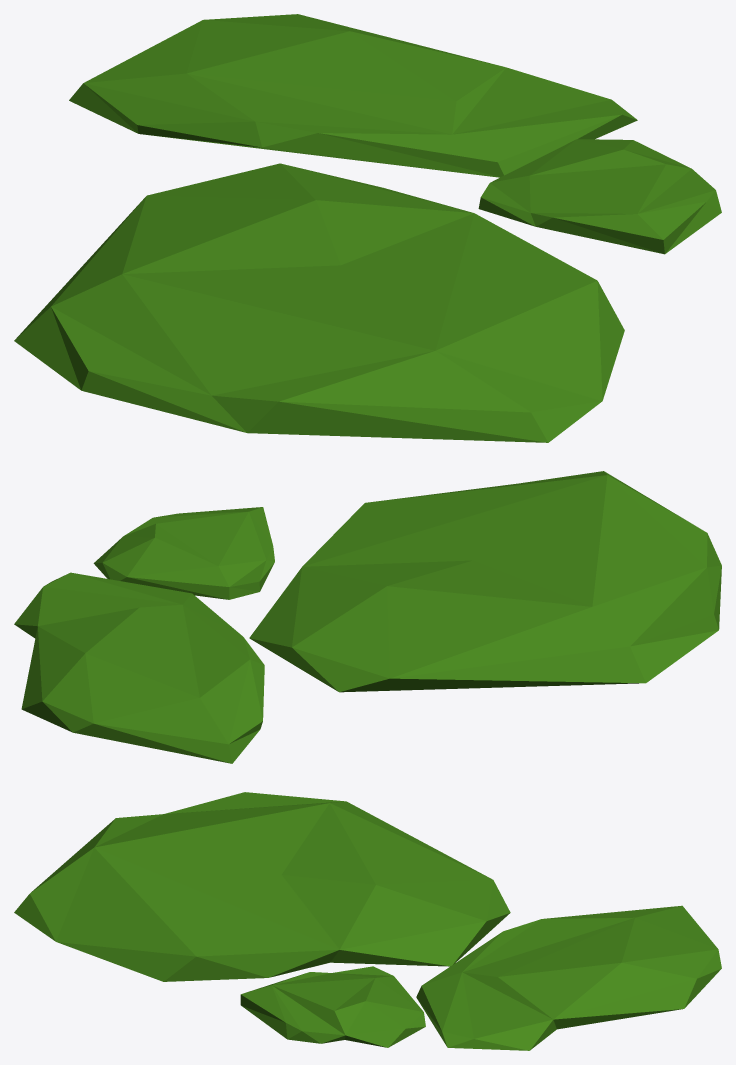
Rendered from Grass_02.FBX.
The picture shows the model from 3 angles, top to bottom: view 1: azimuth 30°, elevation 25°; view 2: azimuth 150°, elevation 25°; view 3: azimuth 270°, elevation 25°; orthographic projection. The views are drawn at different scales.
Parts seen in each view (by area): view 1: GrassDuneSmall_004, GrassDuneSmall_005, GrassDuneSmall_003; view 2: GrassDuneSmall_004, GrassDuneSmall_005, GrassDuneSmall_003; view 3: GrassDuneSmall_004, GrassDuneSmall_005, GrassDuneSmall_003.
Part boxes in pixels (x1=…): GrassDuneSmall_004: x1=14, y1=163, x2=624, y2=442; GrassDuneSmall_005: x1=69, y1=14, x2=637, y2=177; GrassDuneSmall_003: x1=478, y1=139, x2=721, y2=254; GrassDuneSmall_004: x1=249, y1=471, x2=721, y2=692; GrassDuneSmall_005: x1=14, y1=572, x2=264, y2=763; GrassDuneSmall_003: x1=93, y1=507, x2=274, y2=599; GrassDuneSmall_004: x1=14, y1=792, x2=510, y2=981; GrassDuneSmall_005: x1=416, y1=905, x2=721, y2=1050; GrassDuneSmall_003: x1=240, y1=966, x2=425, y2=1047.
Bounding box in the file's own units: 6.79 × 0.6814 × 8.4.
